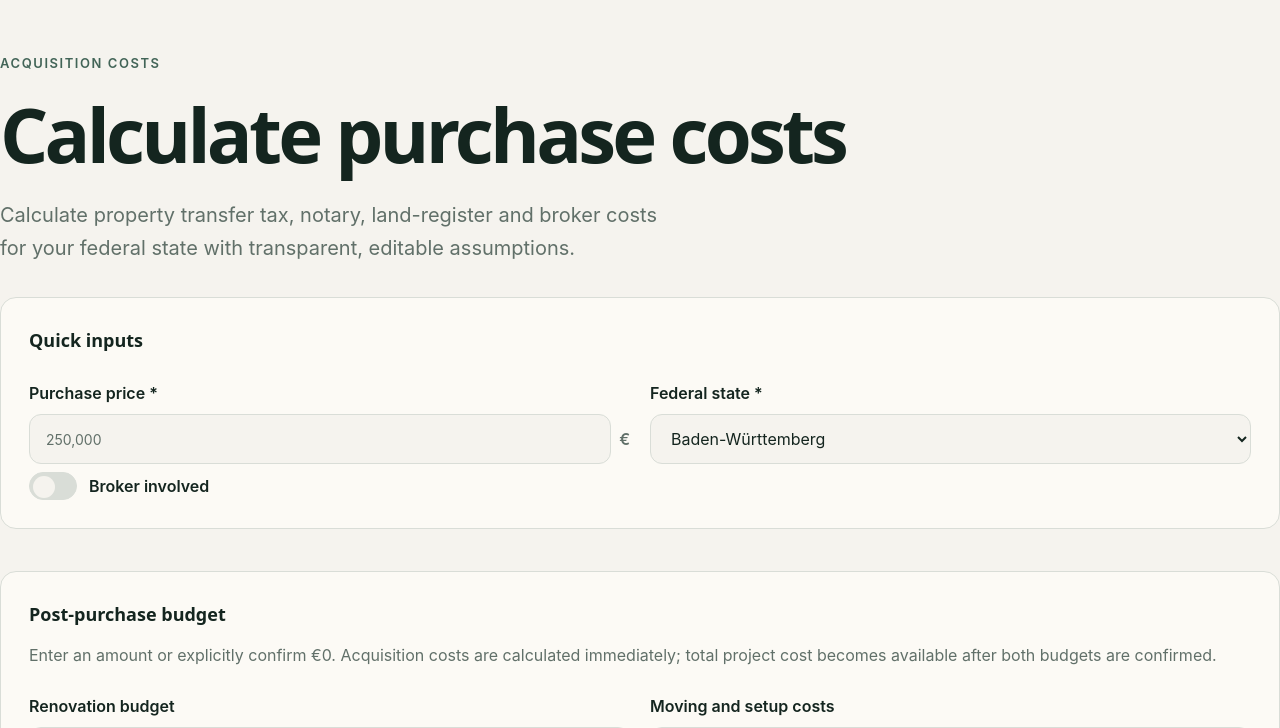
PurchaseCostsPage › accepts an English decimal rate and formats the result for the active locale
This screenshot has width=1280, height=728.
Type "250000" into the field labelled "Purchase price" at (320, 439), box [29,414,611,464]
(page scrolled)
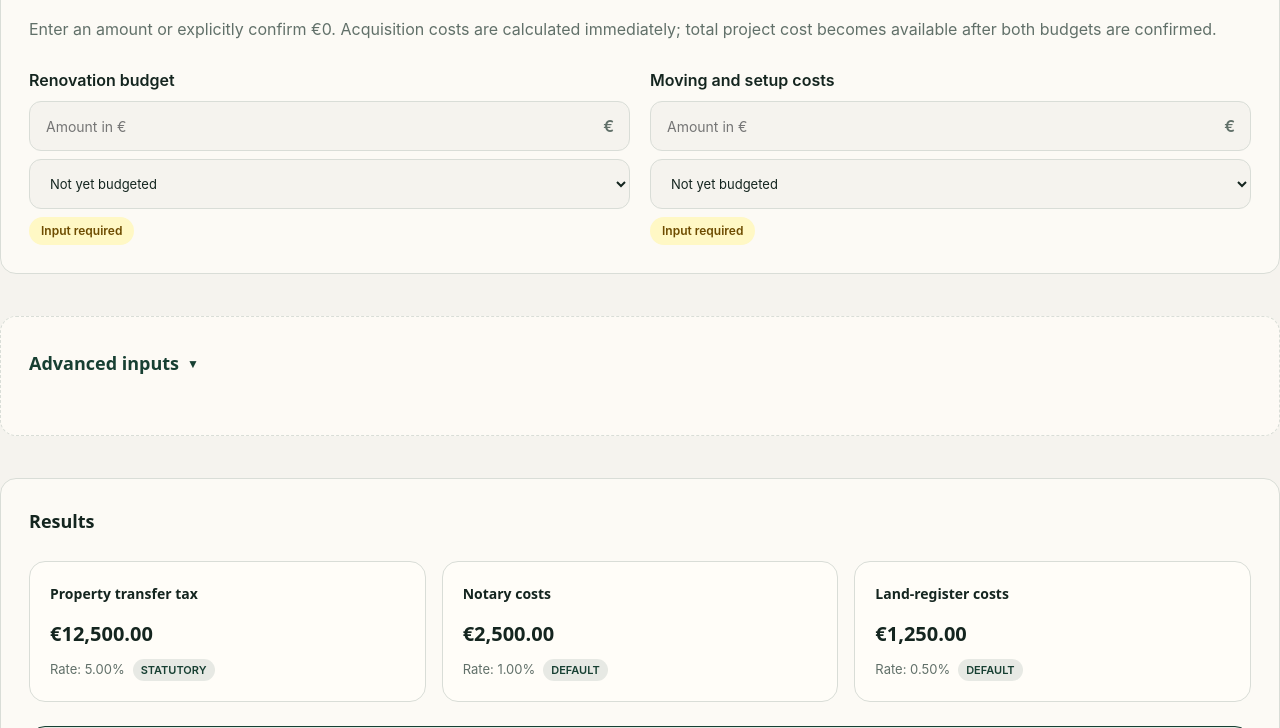
Click the button "Advanced inputs" at (114, 364), box [29,345,199,383]
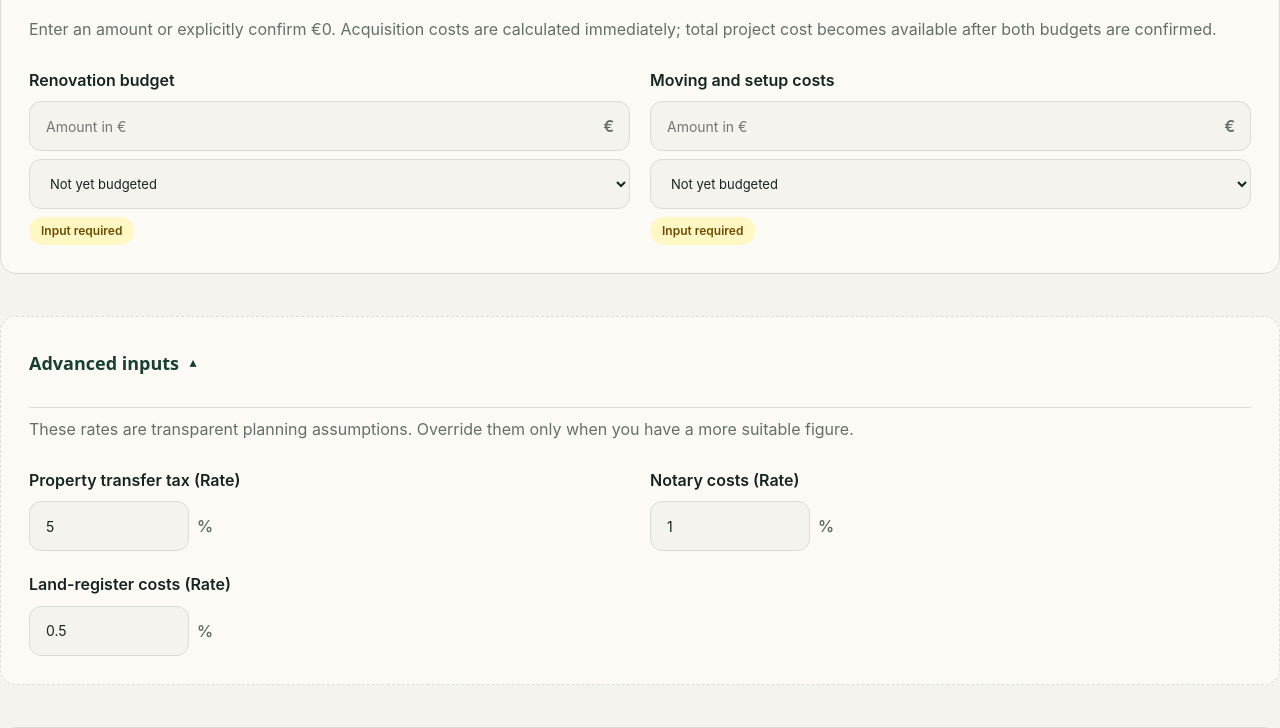
Type "1.5" into the field labelled "Property transfer tax (Rate)" at (109, 526), box [29,501,189,551]
(page scrolled)
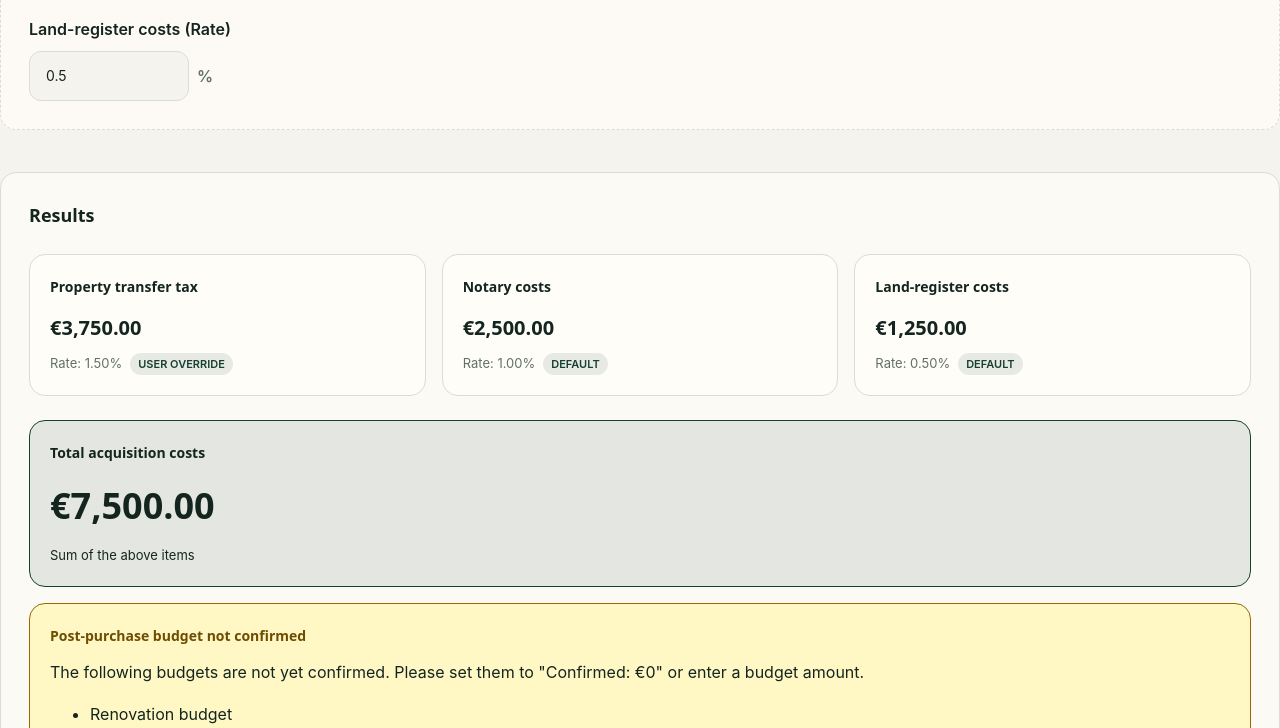
Expected: the element "Property transfer tax" is shown, [29,254,426,396]
Expected: the text "€3,750.00" is shown, [50,314,142,341]
Expected: the text "Rate: 1.50% User override" is shown, [50,353,233,375]
